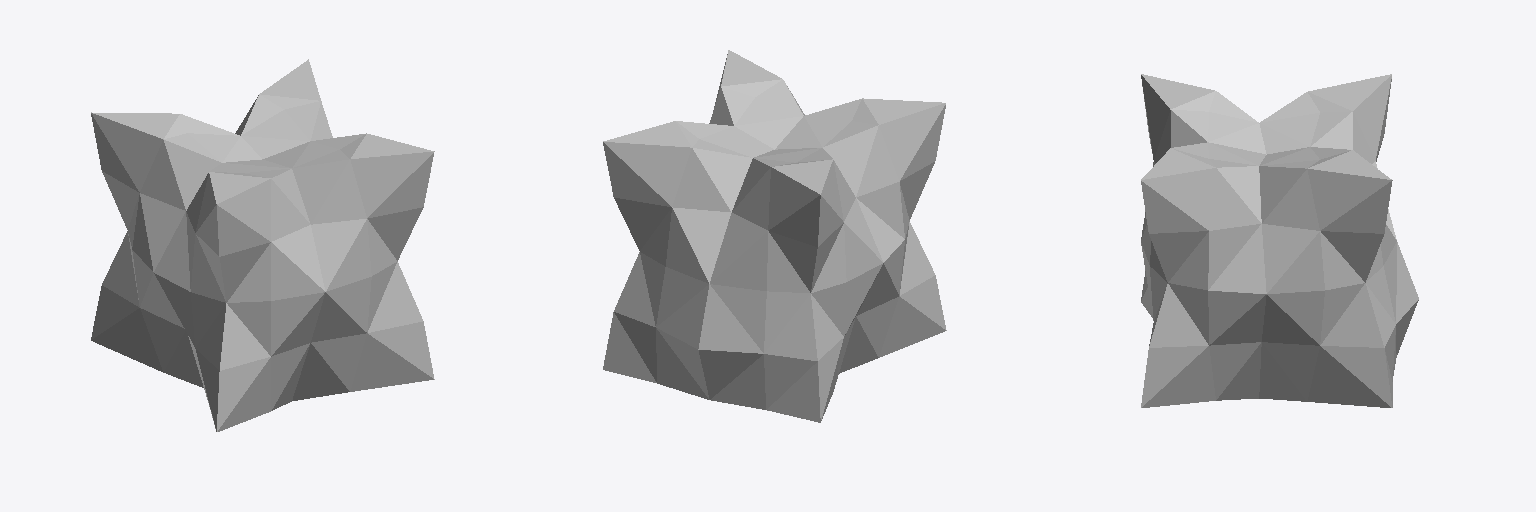
Rendered from LaserGunAmmo_LOD0.obj.
The picture shows the model from 3 angles: view 1: azimuth 30°, elevation 25°; view 2: azimuth 150°, elevation 25°; view 3: azimuth 270°, elevation 25°; orthographic projection.
Parts seen in each view (by area): view 1: Cube_Cube.001; view 2: Cube_Cube.001; view 3: Cube_Cube.001.
Part boxes in pixels (x1,y1,x2,y2): Cube_Cube.001: (91,59,434,431); Cube_Cube.001: (603,50,946,422); Cube_Cube.001: (1141,74,1418,407).
Bounding box in the file's own units: 0.944 × 1.07 × 1.04.